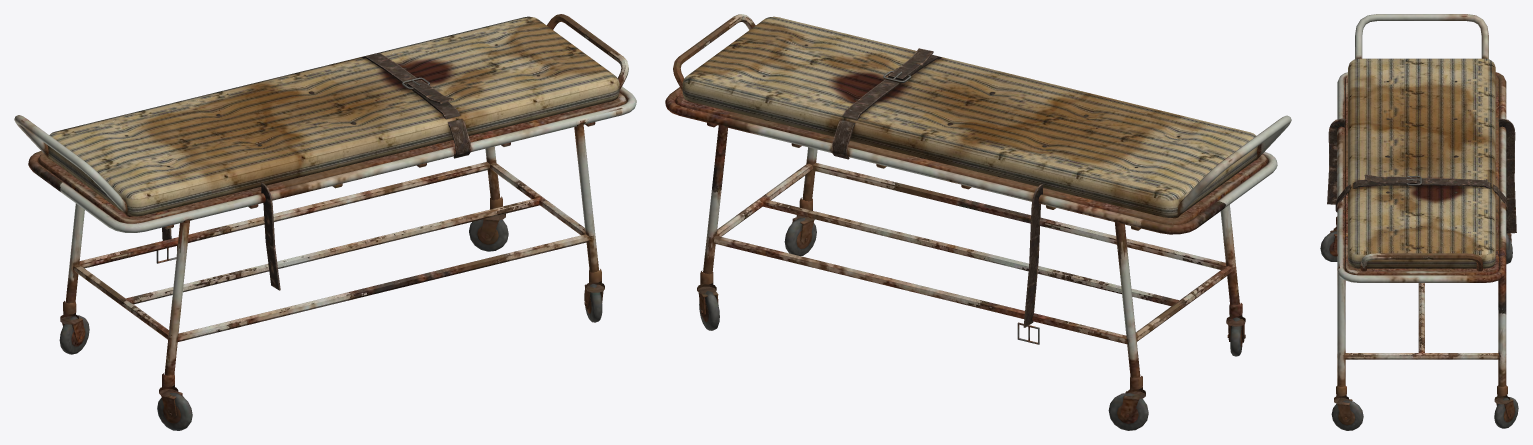
File: prop_gurney.glb
3 renders of one model, left to right at view 1: azimuth 30°, elevation 25°; view 2: azimuth 150°, elevation 25°; view 3: azimuth 270°, elevation 25°, orthographic. The views are drawn at different scales.
Parts seen in each view (by area): view 1: Body; view 2: Body; view 3: Body.
Part boxes in pixels (<box>): Body: <box>14,14,636,430</box>; Body: <box>665,14,1291,430</box>; Body: <box>1320,14,1518,430</box>.
Bounding box in the file's own units: 1.96 × 0.9189 × 0.752.
2 materials, 2 textured.
